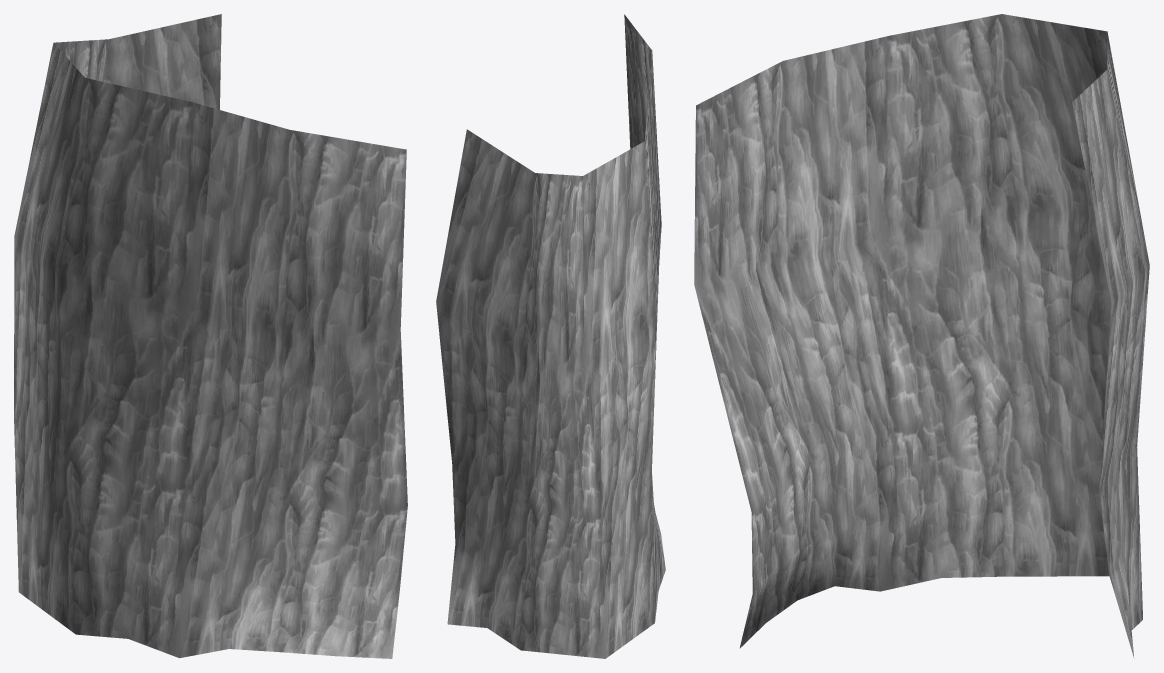
File: SWORDLIGHT20_PS-AREA03_06.fbx
3 views of the same model, side by side, from view 1: azimuth 30°, elevation 25°; view 2: azimuth 150°, elevation 25°; view 3: azimuth 270°, elevation 25° (orthographic). The views are drawn at different scales.
Parts seen in each view (by area): view 1: SWORDLIGHT20_PS-AREA03_06; view 2: SWORDLIGHT20_PS-AREA03_06; view 3: SWORDLIGHT20_PS-AREA03_06.
Boxes of the visible parts, x1,y1,x2,y2 form: SWORDLIGHT20_PS-AREA03_06: (14,14,407,658); SWORDLIGHT20_PS-AREA03_06: (436,14,665,658); SWORDLIGHT20_PS-AREA03_06: (694,14,1149,658).
Bounding box in the file's own units: 63712 × 154506 × 111446.
1 material, 1 textured.
